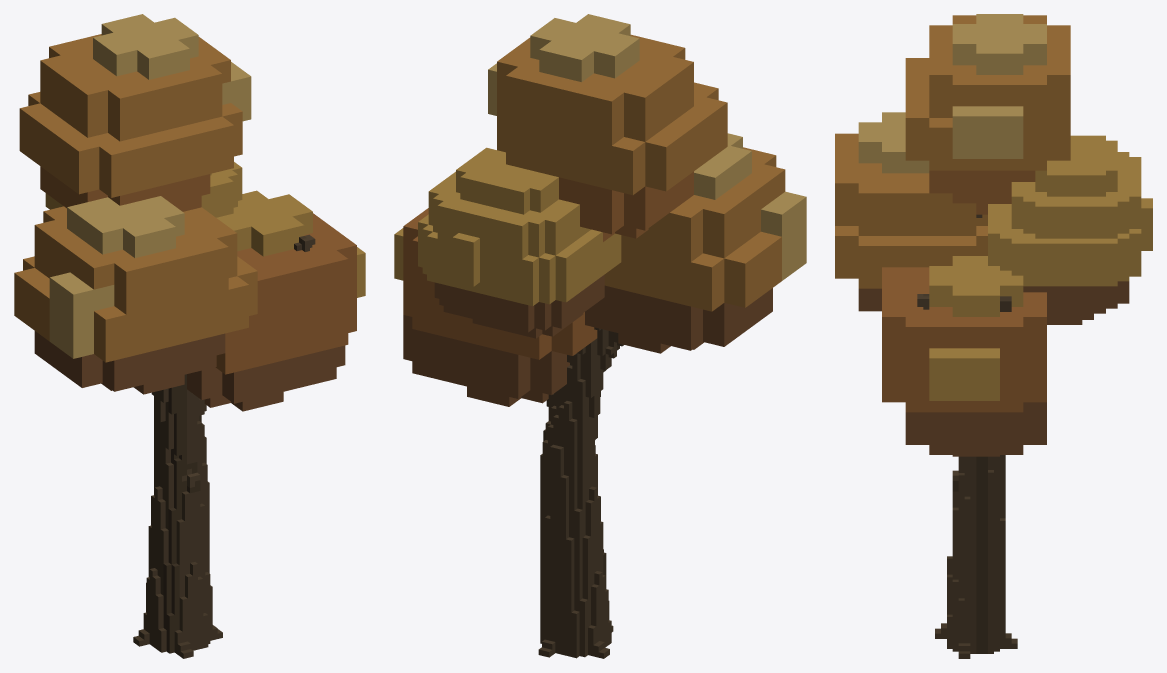
File: oak_sapling_autumn.glb
The picture shows the model from 3 angles, left to right: view 1: azimuth 30°, elevation 25°; view 2: azimuth 150°, elevation 25°; view 3: azimuth 270°, elevation 25°; orthographic projection. The views are drawn at different scales.
Visible parts, largest first — view 1: VoxelVisual; view 2: VoxelVisual; view 3: VoxelVisual.
Boxes of the visible parts, x1,y1,x2,y2 form: VoxelVisual: [14, 14, 365, 658]; VoxelVisual: [394, 14, 806, 658]; VoxelVisual: [835, 14, 1152, 658].
Size of what is drawn, in the model's own units: 4 by 7 by 3.38.
